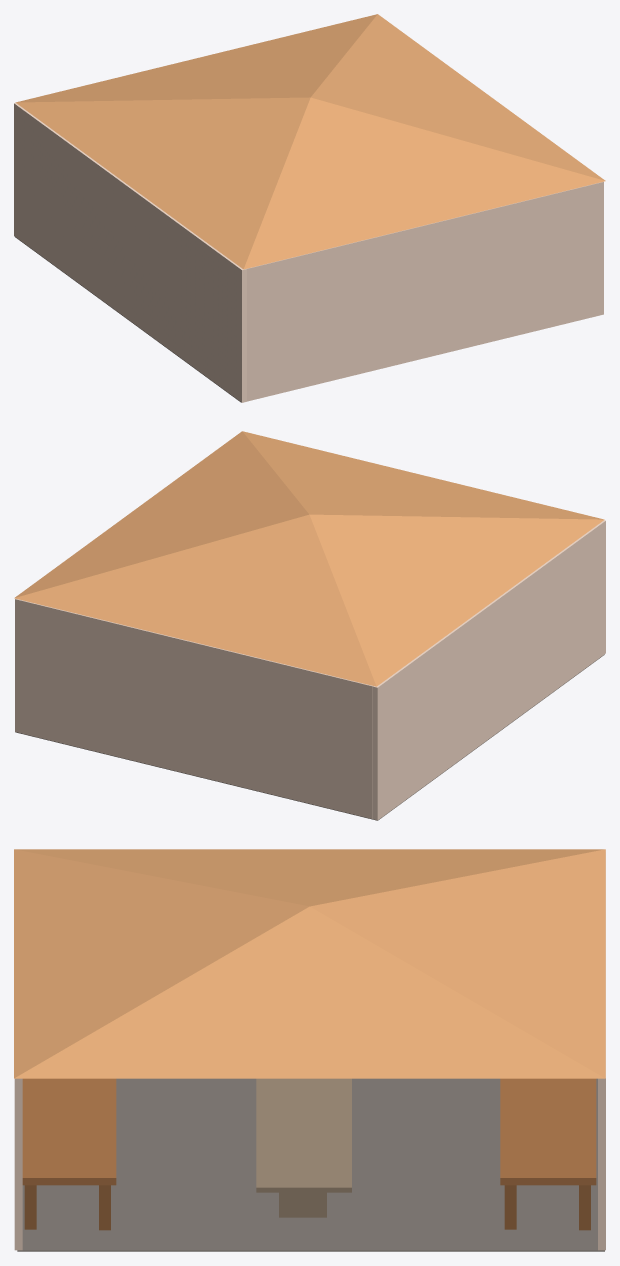
Rendered from grande.glb.
3 views of the same model, one above another, from view 1: azimuth 30°, elevation 25°; view 2: azimuth 150°, elevation 25°; view 3: azimuth 270°, elevation 25° (orthographic). The views are drawn at different scales.
Parts seen in each view (by area): view 1: Cubo.001, Cube.003, Cube.004; view 2: Cubo.001, Cube.001, Cube.004, Cubo; view 3: Cubo.001, Cubo, Cubo.002, Cubo.004, Cubo.003, Cube.001, Cube.003.
Boxes of the visible parts, x1,y1,x2,y2 form: Cubo.001: [15, 14, 605, 269]; Cube.003: [246, 181, 603, 401]; Cube.004: [14, 103, 246, 402]; Cubo.001: [14, 431, 604, 686]; Cube.001: [15, 599, 373, 818]; Cube.004: [373, 520, 605, 820]; Cubo: [15, 654, 604, 820]; Cubo.001: [14, 849, 605, 1078]; Cubo: [17, 1078, 604, 1251]; Cubo.002: [256, 1078, 351, 1217]; Cubo.004: [500, 1078, 596, 1230]; Cubo.003: [22, 1078, 116, 1230]; Cube.001: [598, 852, 605, 1250]; Cube.003: [14, 1078, 22, 1250].
Size of the model in its own units: 62.57 by 29.29 by 68.03.
